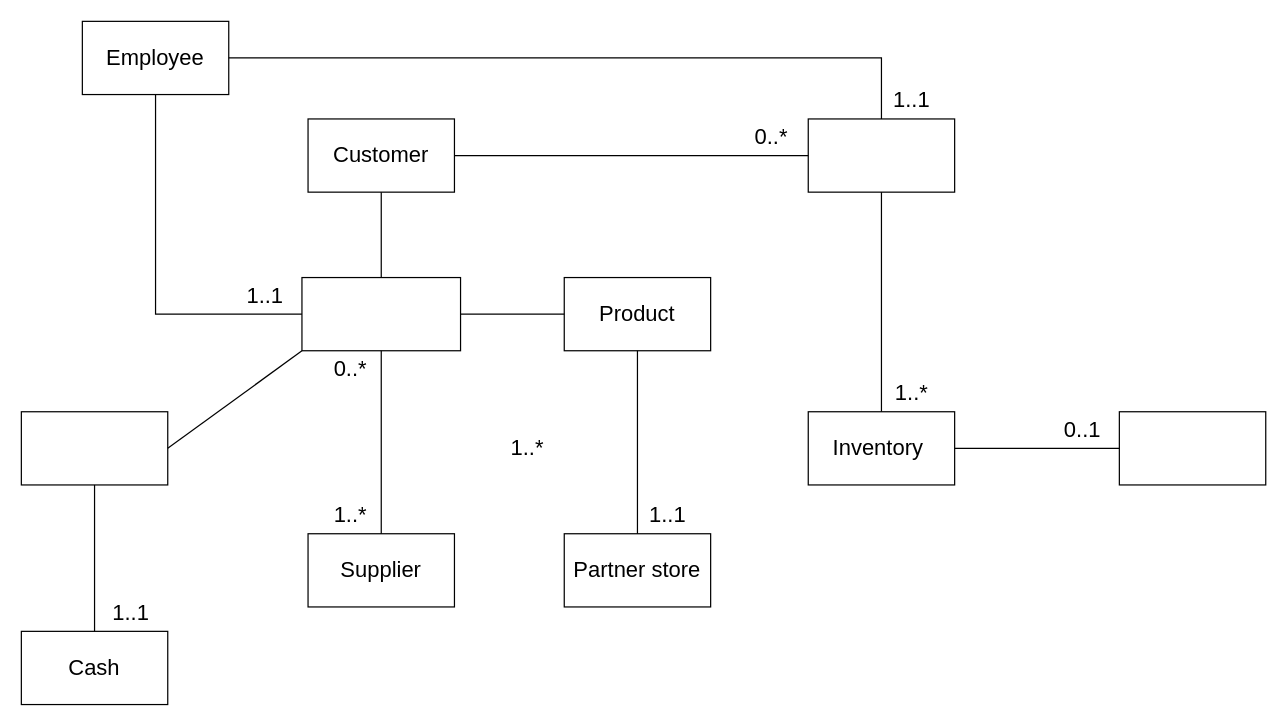
The diagram is 1287 pixels wide and 726 high, and some of its shapes have lost their labels. Here are the shapes that lost their labels. From the top down, the box of each, then its label:
(807, 118, 955, 192): Sale
(301, 276, 461, 351): Order/Purchase
(20, 411, 168, 485): Cash receipt
(1118, 411, 1266, 485): Category
